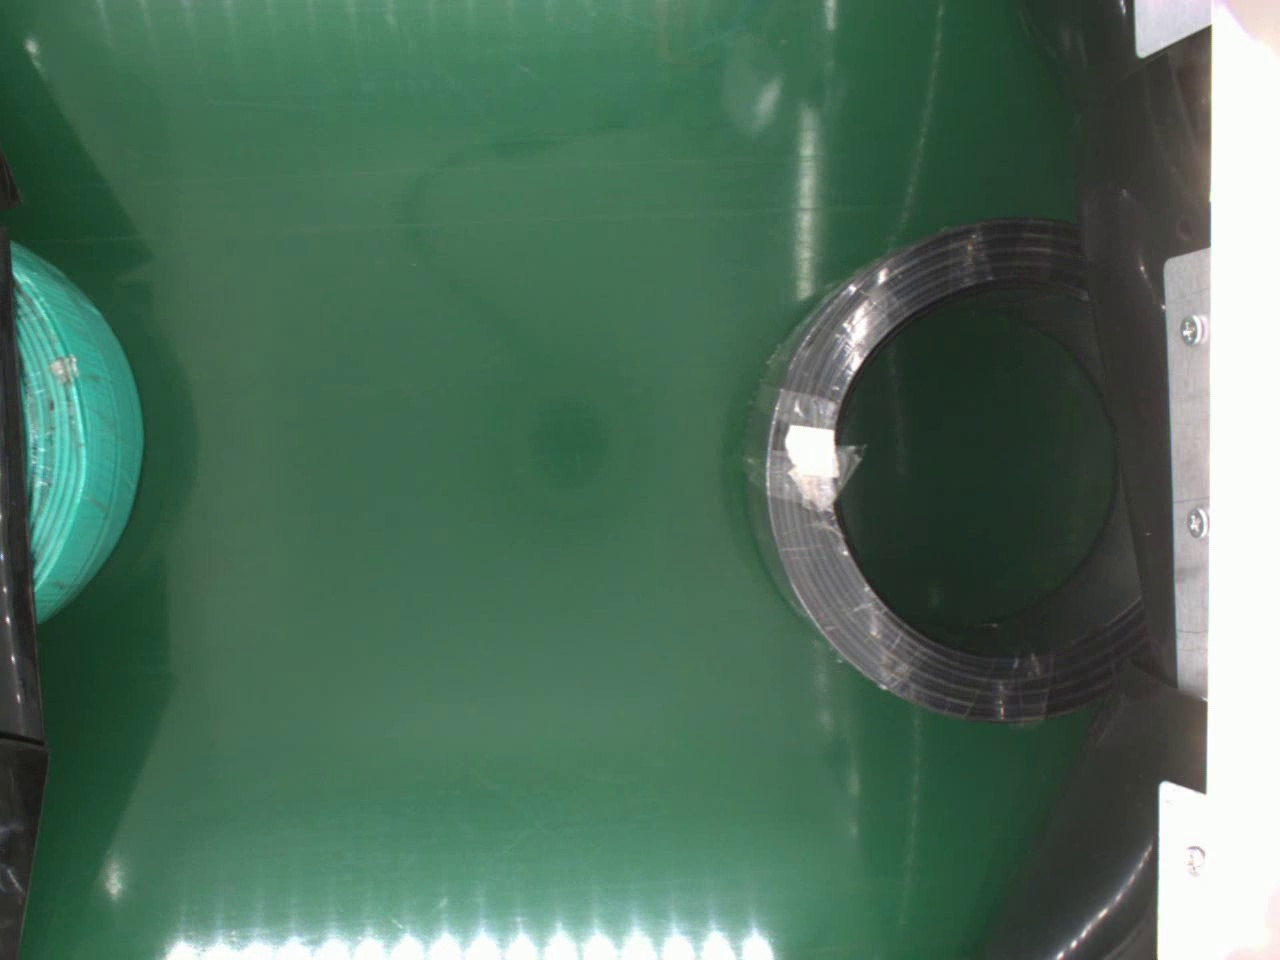black: (739, 210, 1161, 715)
green: (4, 233, 143, 624)
